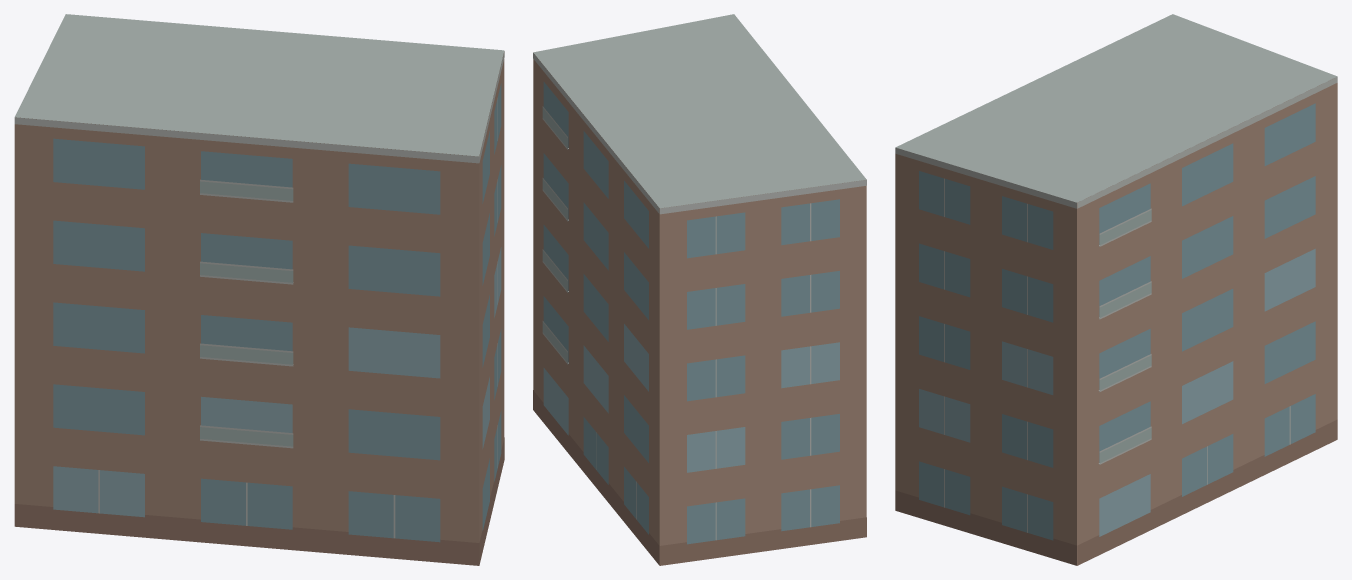
Rendered from survey-upis-32526047.glb.
3 views of the same model, side by side, from view 1: azimuth 30°, elevation 25°; view 2: azimuth 150°, elevation 25°; view 3: azimuth 270°, elevation 25° (orthographic). The views are drawn at different scales.
Parts seen in each view (by area): view 1: survey-upis-32526047.tmp; view 2: survey-upis-32526047.tmp; view 3: survey-upis-32526047.tmp.
Boxes of the visible parts, box(x1,y1,x2,y2) form: survey-upis-32526047.tmp: box(14, 14, 504, 565); survey-upis-32526047.tmp: box(533, 14, 866, 565); survey-upis-32526047.tmp: box(895, 14, 1337, 565).
Bounding box in the file's own units: 16.09 × 14.43 × 15.94.
